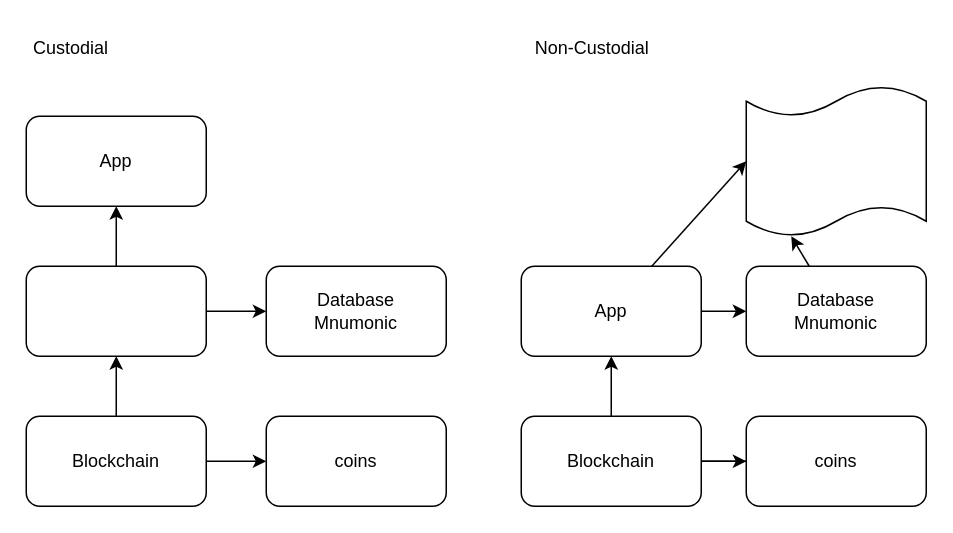
Image size: 953x533. Some labels were removed from this diagram. Each missing label, with the centre of its shape:
Backup 12 words: the point at 835,160
Server: the point at 115,310
